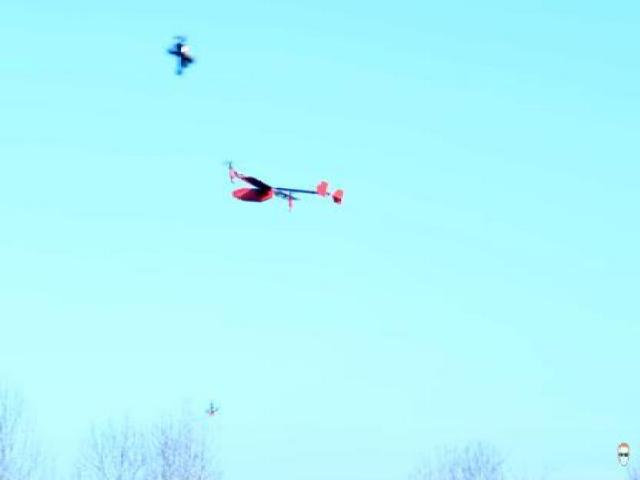uav: (218, 156, 347, 210)
